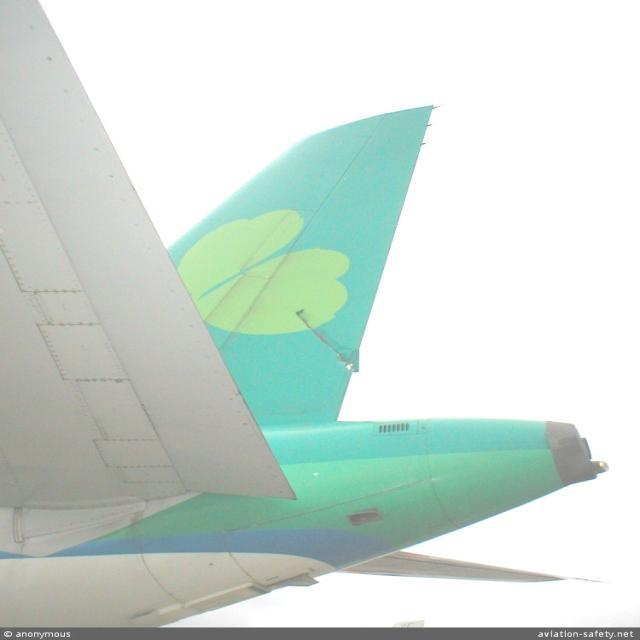crack: (269, 294, 397, 388)
